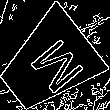M_SW: (15, 30, 81, 98)
